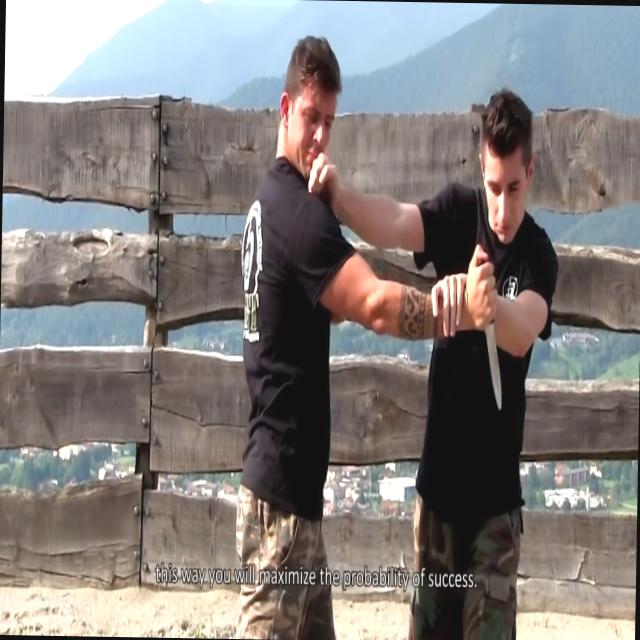knife: (468, 241, 507, 416)
